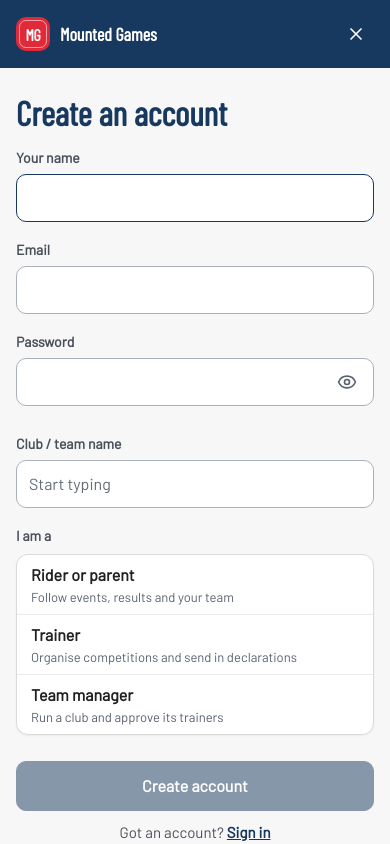
Scenario: SignUpPage › does not offer to add a club that already matches exactly
Type "wirral pony club" into the field labelled "Club / team name" at {"x": 195, "y": 484}, box [29,462,361,506]
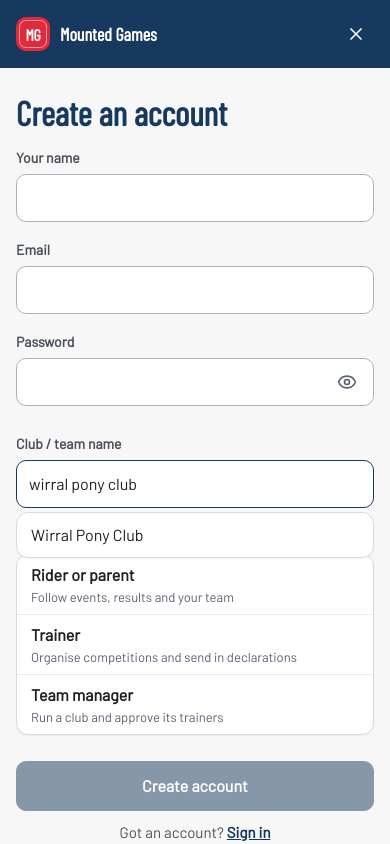
Check: the buttons read "Wirral Pony Club", in this order, box [17,513,373,557]
